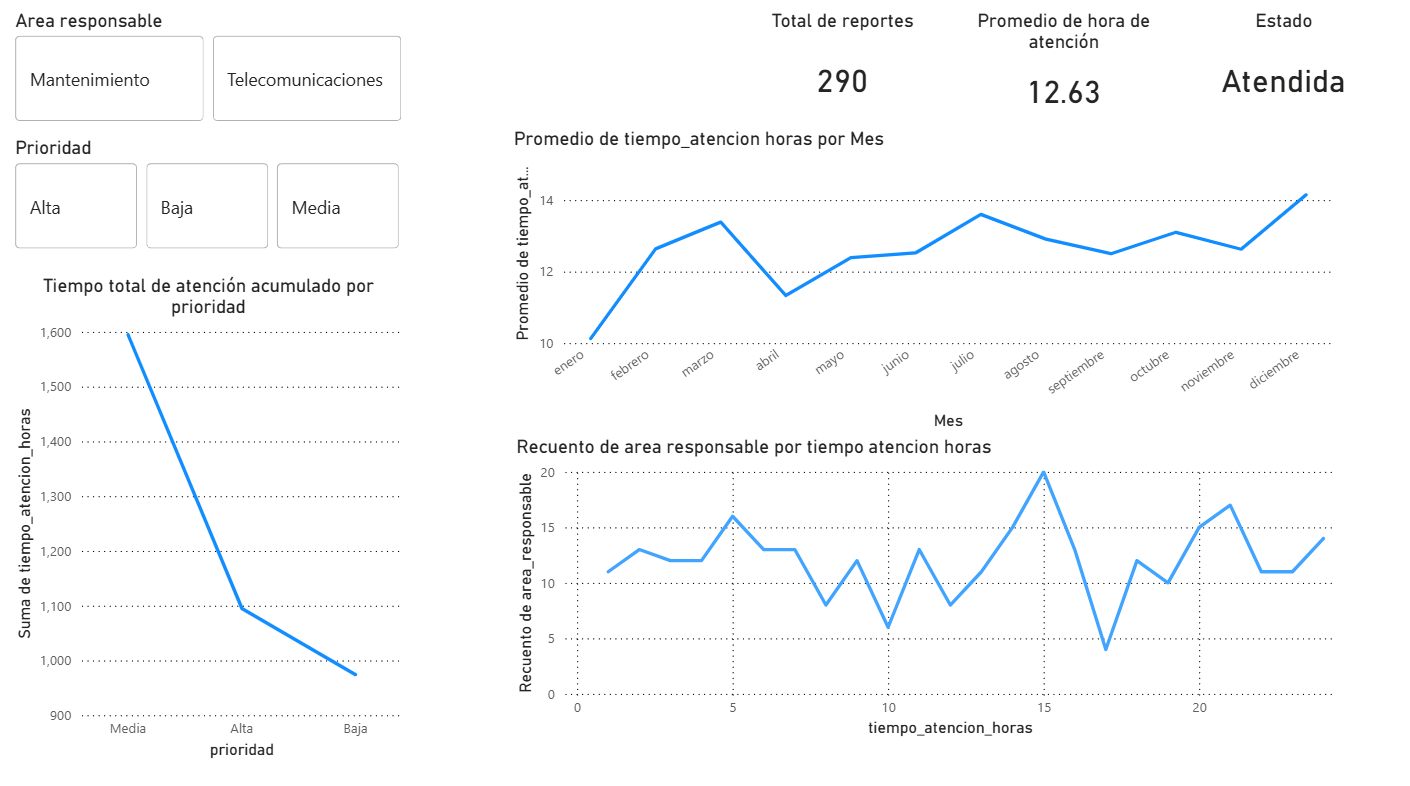

The page's visual inventory and layout, read from the dashboard file:
{"tool":"powerbi","page":{"name":"Página 1","canvas":[1280,720],"ordinal":0},"visuals":[{"type":"lineChart","title":"Promedio de tiempo_atencion horas por Mes","fields":{"Category":["incidencias_operativas_powerbi.mes_reporte.Variación.Jerarquía de fechas.Año","incidencias_operativas_powerbi.mes_reporte.Variación.Jerarquía de fechas.Trimestre","incidencias_operativas_powerbi.mes_reporte.Variación.Jerarquía de fechas.Mes","incidencias_operativas_powerbi.mes_reporte.Variación.Jerarquía de fechas.Día"],"Y":["Avg(incidencias_operativas_powerbi.tiempo_atencion_horas)"]},"box":[462.4,120.8,747.9,277.2],"z":0},{"type":"advancedSlicerVisual","fields":{"Values":["incidencias_operativas_powerbi.area_responsable"]},"box":[12.3,13.7,358.1,107],"z":1000},{"type":"card","title":"Total de reportes","fields":{"Values":["CountNonNull(incidencias_operativas_powerbi.ï»¿id_incidencia)"]},"box":[664.2,13.7,199,107],"z":2000},{"type":"card","title":"Estado","fields":{"Values":["Min(incidencias_operativas_powerbi.estado)"]},"box":[1062.1,13.7,199,107],"z":3000},{"type":"card","title":"Promedio de hora de atención","fields":{"Values":["Avg(incidencias_operativas_powerbi.tiempo_atencion_horas)"]},"box":[863.1,13.7,199,107],"z":4000},{"type":"lineChart","title":"Recuento de area responsable por tiempo atencion horas","fields":{"Category":["incidencias_operativas_powerbi.tiempo_atencion_horas"],"Y":["CountNonNull(incidencias_operativas_powerbi.area_responsable)"]},"box":[463.8,397.9,747.9,277.2],"z":5000},{"type":"lineChart","title":"Tiempo total de atención acumulado por prioridad","fields":{"Category":["incidencias_operativas_powerbi.prioridad"],"Y":["Sum(incidencias_operativas_powerbi.tiempo_atencion_horas)"]},"box":[12.3,252.5,358.1,441.9],"z":6000},{"type":"advancedSlicerVisual","fields":{"Values":["incidencias_operativas_powerbi.prioridad"]},"box":[12.3,129,358.1,107],"z":7000}]}

Visuals, with their boxes in screenshot pixels (x1, y1, x2, y2), scaled from the page's 1280x720 canvas onto the 1410x786 screenshot:
"Promedio de tiempo_atencion horas por Mes" lineChart: bbox(509, 132, 1333, 434)
advancedSlicerVisual - incidencias_operativas_powerbi.area_responsable: bbox(14, 15, 408, 132)
"Total de reportes" card: bbox(732, 15, 951, 132)
"Estado" card: bbox(1170, 15, 1389, 132)
"Promedio de hora de atención" card: bbox(951, 15, 1170, 132)
"Recuento de area responsable por tiempo atencion horas" lineChart: bbox(511, 434, 1335, 737)
"Tiempo total de atención acumulado por prioridad" lineChart: bbox(14, 276, 408, 758)
advancedSlicerVisual - incidencias_operativas_powerbi.prioridad: bbox(14, 141, 408, 258)
